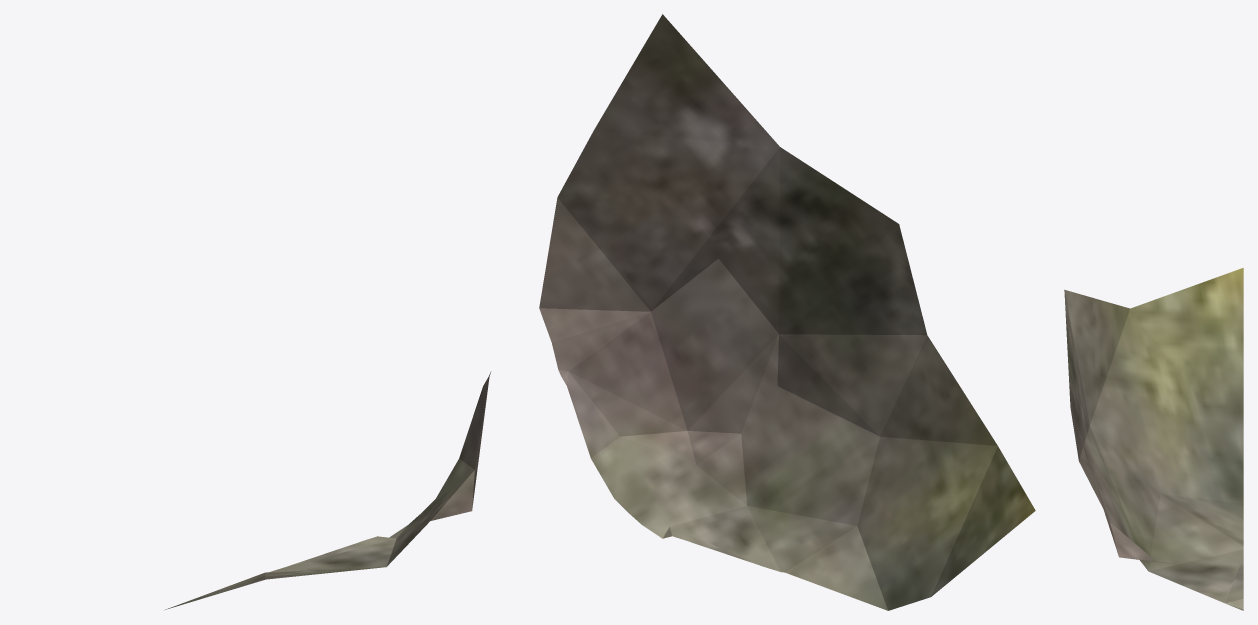
3 renders of one model, left to right at view 1: azimuth 30°, elevation 25°; view 2: azimuth 150°, elevation 25°; view 3: azimuth 270°, elevation 25°, orthographic. The views are drawn at different scales.
Size of the model in its own units: 8.43 by 8.79 by 2.32.
Materials: 1 (1 with a texture image).
